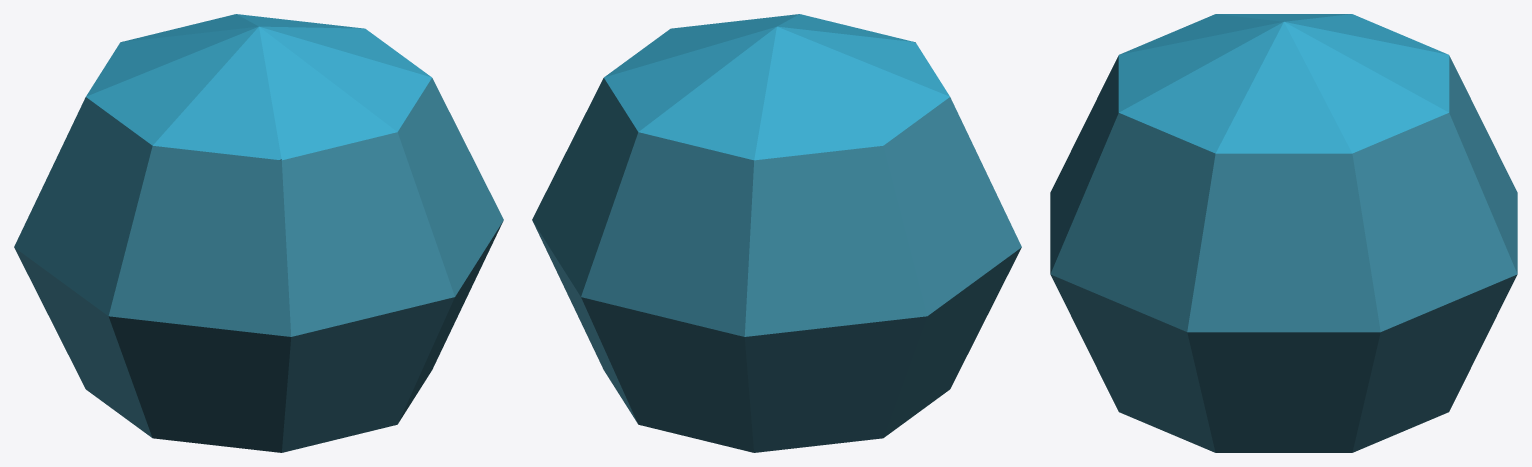
The model's file is audience.gltf.
The picture shows the model from 3 angles, left to right: view 1: azimuth 30°, elevation 25°; view 2: azimuth 150°, elevation 25°; view 3: azimuth 270°, elevation 25°; orthographic projection. The views are drawn at different scales.
Parts seen in each view (by area): view 1: audience; view 2: audience; view 3: audience.
Boxes of the visible parts, <box> form: audience: <box>14,14,503,452</box>; audience: <box>532,14,1021,452</box>; audience: <box>1050,14,1517,452</box>.
Size of the model in its own units: 0.625 by 0.625 by 0.625.
1 material, 1 textured.
